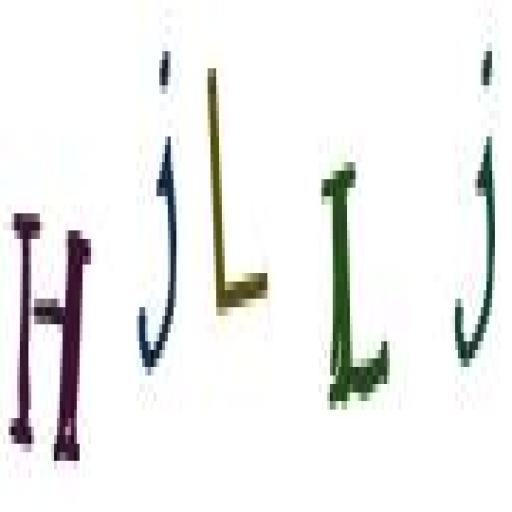H: (8, 186, 87, 484)
L: (316, 155, 396, 414), (201, 52, 275, 321)
j: (448, 40, 502, 378), (133, 48, 180, 389)
